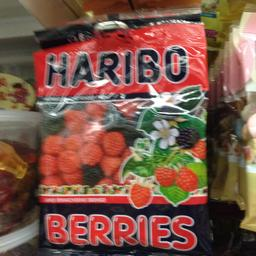candy: (34, 18, 210, 252)
